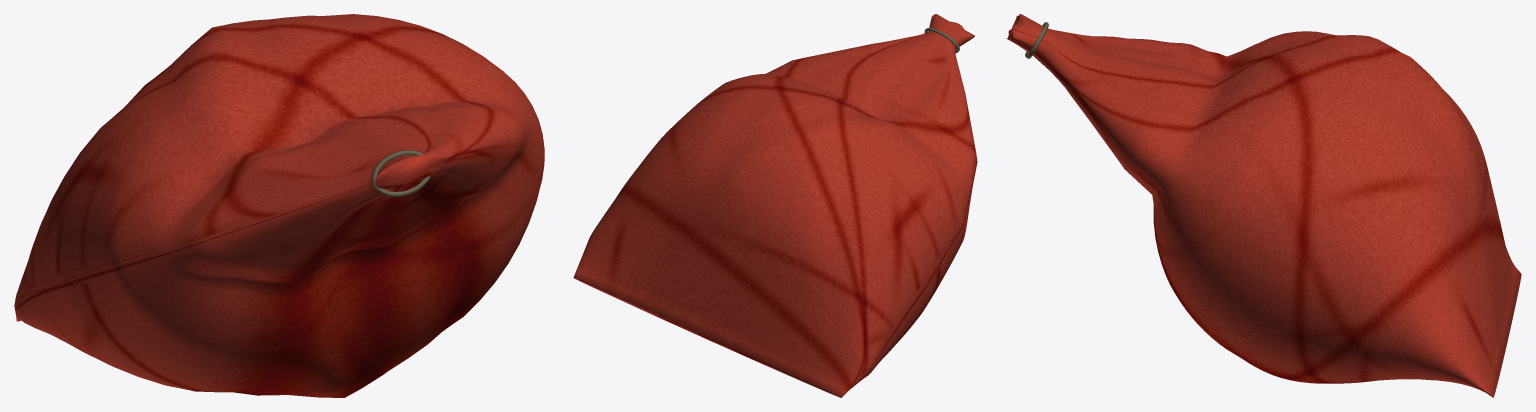
File: peach_00_008.glb
3 renders of one model, left to right at view 1: azimuth 30°, elevation 25°; view 2: azimuth 150°, elevation 25°; view 3: azimuth 270°, elevation 25°, orthographic. The views are drawn at different scales.
Visible parts, largest first — view 1: export_Tree00/shoot1_6_1/bag, export_Tree00/shoot1_6_1/bag/tie; view 2: export_Tree00/shoot1_6_1/bag; view 3: export_Tree00/shoot1_6_1/bag.
Part boxes in pixels (x1,y1,x2,y2): export_Tree00/shoot1_6_1/bag: [14, 14, 544, 397]; export_Tree00/shoot1_6_1/bag/tie: [372, 150, 430, 196]; export_Tree00/shoot1_6_1/bag: [573, 14, 977, 397]; export_Tree00/shoot1_6_1/bag: [1006, 14, 1521, 397].
Bounding box in the file's own units: 0.1305 × 0.0954 × 0.1391.
Materials: 4 (1 with a texture image).
